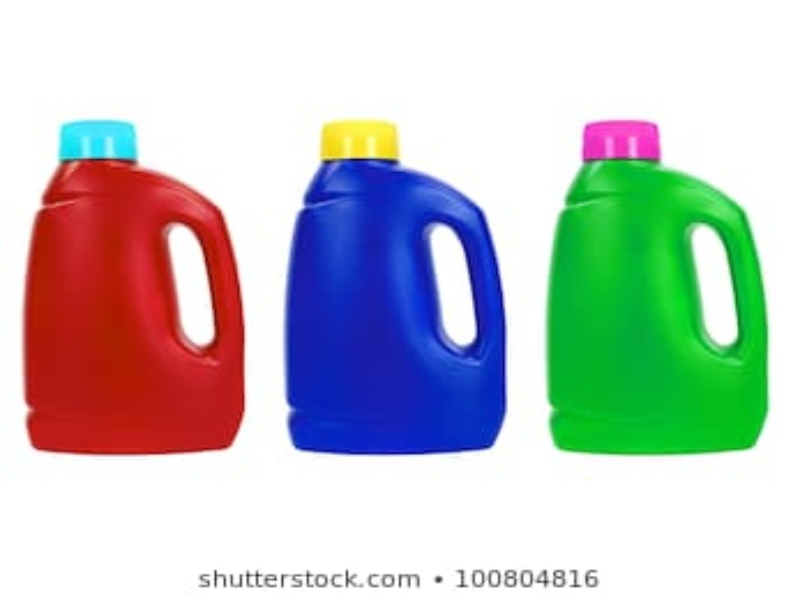bottle-cap: (51, 119, 142, 161), (575, 119, 666, 161), (312, 119, 403, 161)
detergent-bottle: (19, 117, 247, 457), (542, 119, 770, 459), (282, 119, 510, 459)
